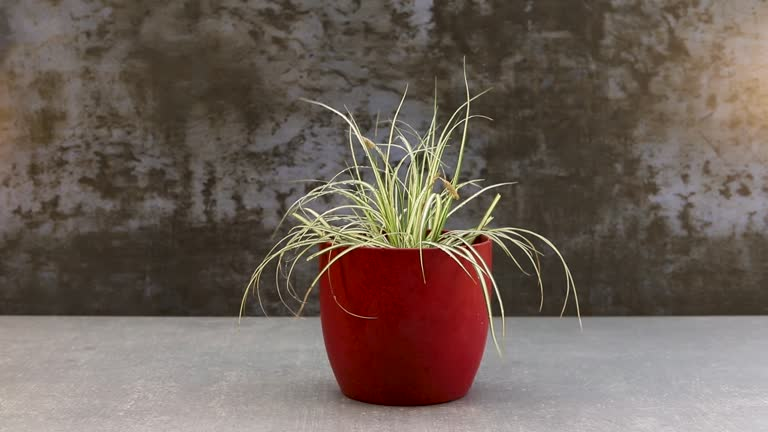potted plant: (232, 71, 543, 407)
